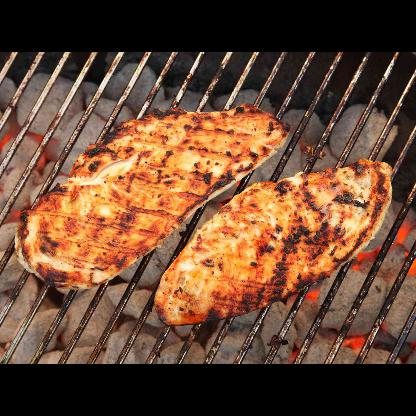grilled chicken breast: (14, 104, 289, 288), (155, 160, 393, 326)
